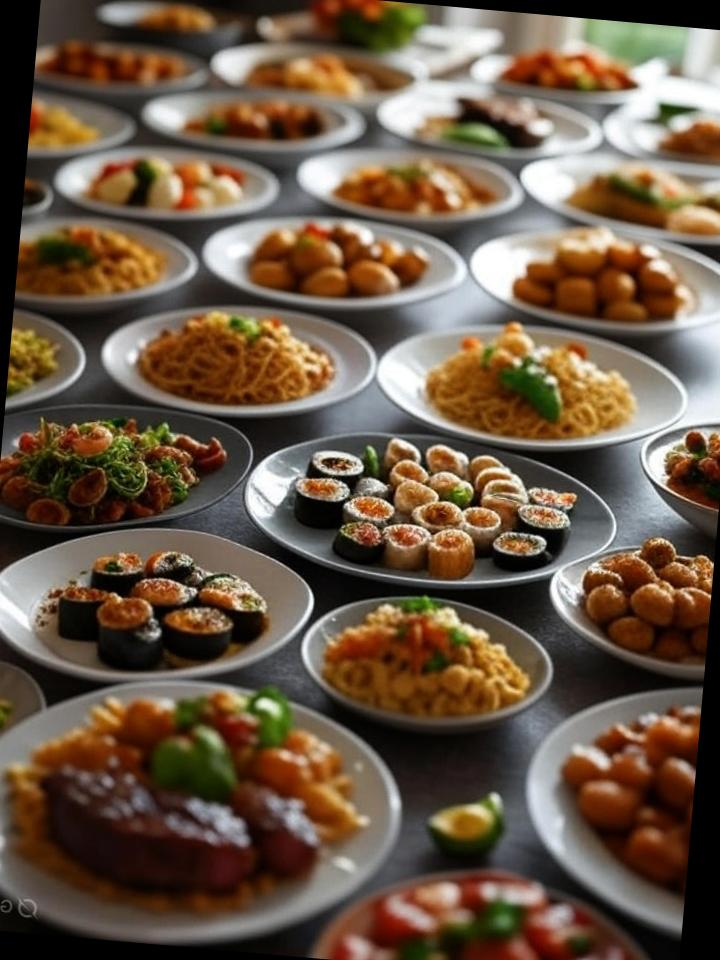sushi: (283, 452, 568, 566)
